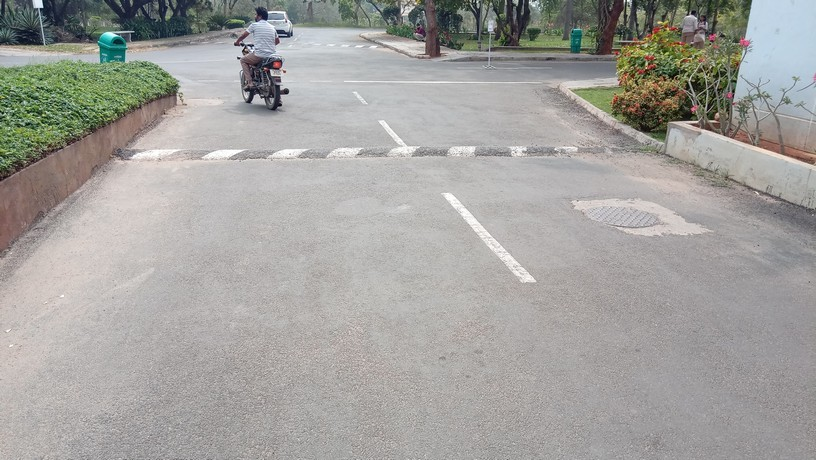bump: (115, 142, 665, 160)
